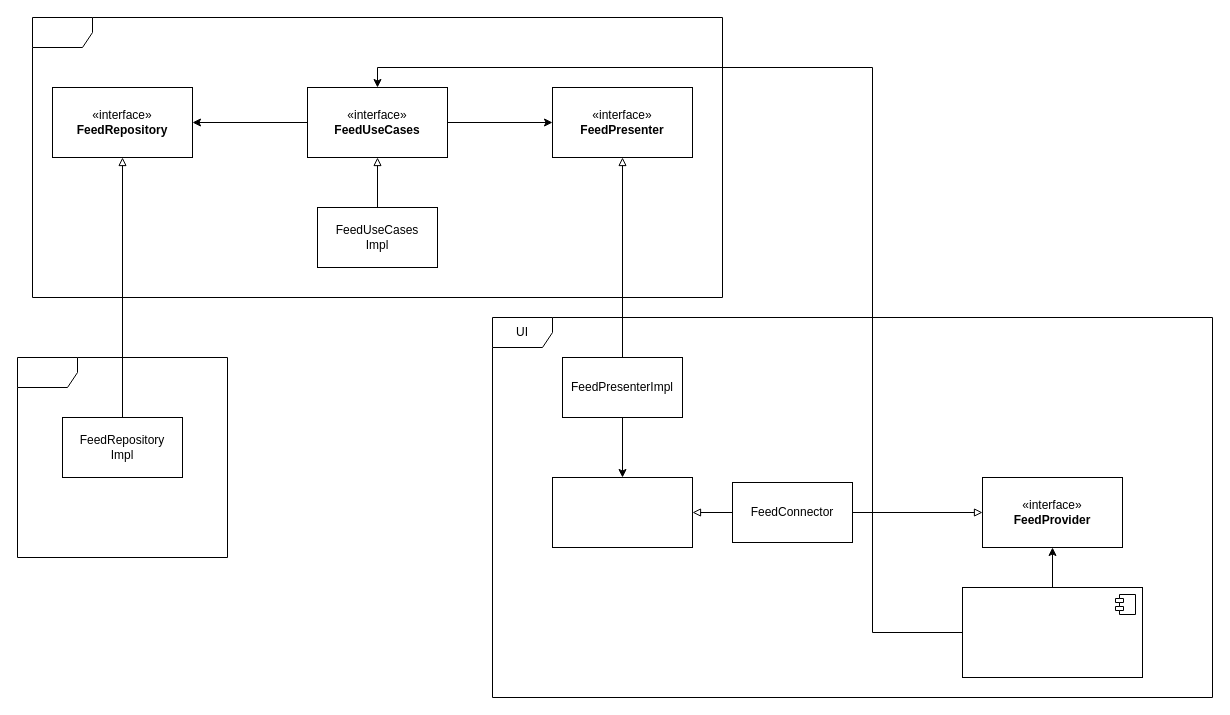
The diagram is 1230 pixels wide and 715 high, and some of its shapes have lost their labels. The shapes that lost their labels are listed below. From the top down, each one's centre as x and y in pixels, then its label:
(x=377, y=157): UseCase layer
(x=122, y=457): Repository
(x=622, y=512): «interface» FeedSink
(x=1052, y=632): UI components
